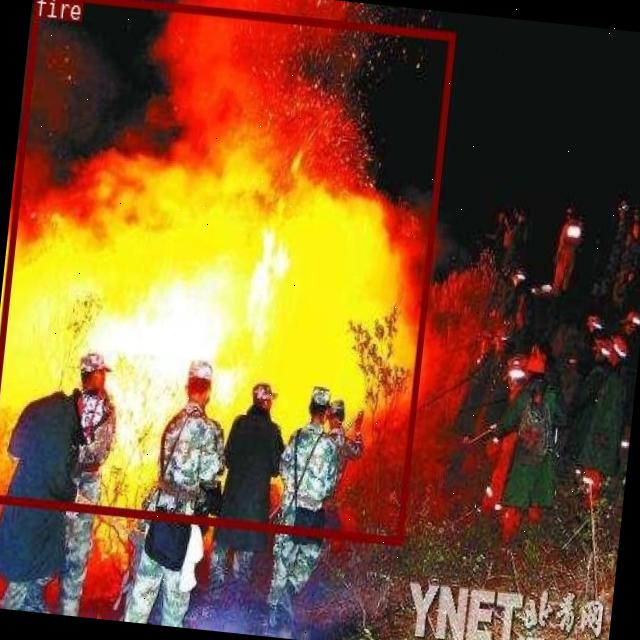fire: (0, 0, 454, 543)
